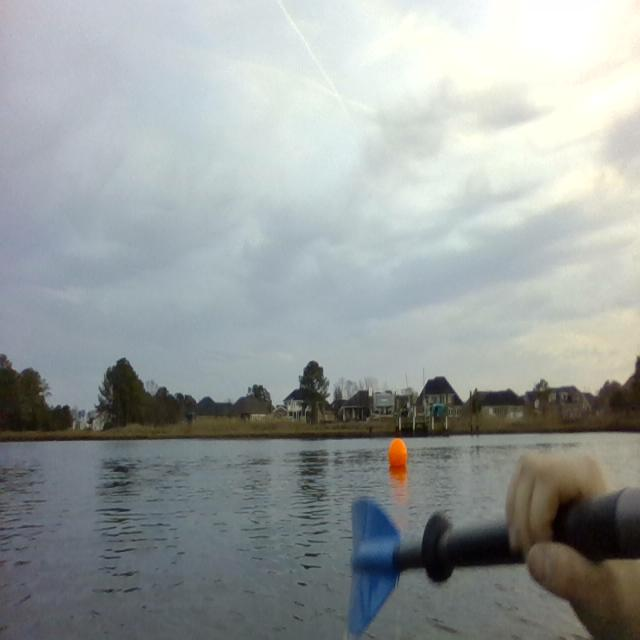Buoy: (387, 435, 408, 474)
